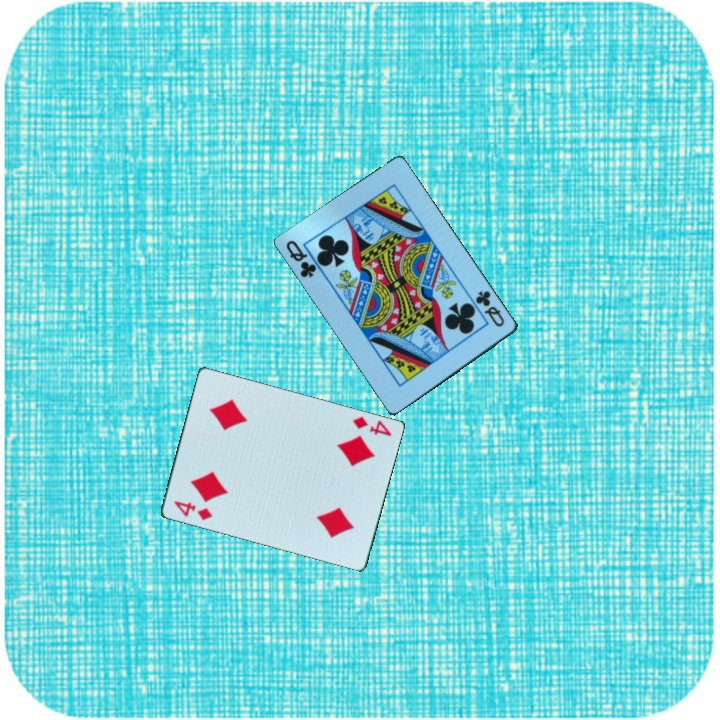4d: (170, 498, 216, 524), (349, 413, 394, 439)
Qc: (283, 237, 320, 281), (472, 287, 508, 330)
